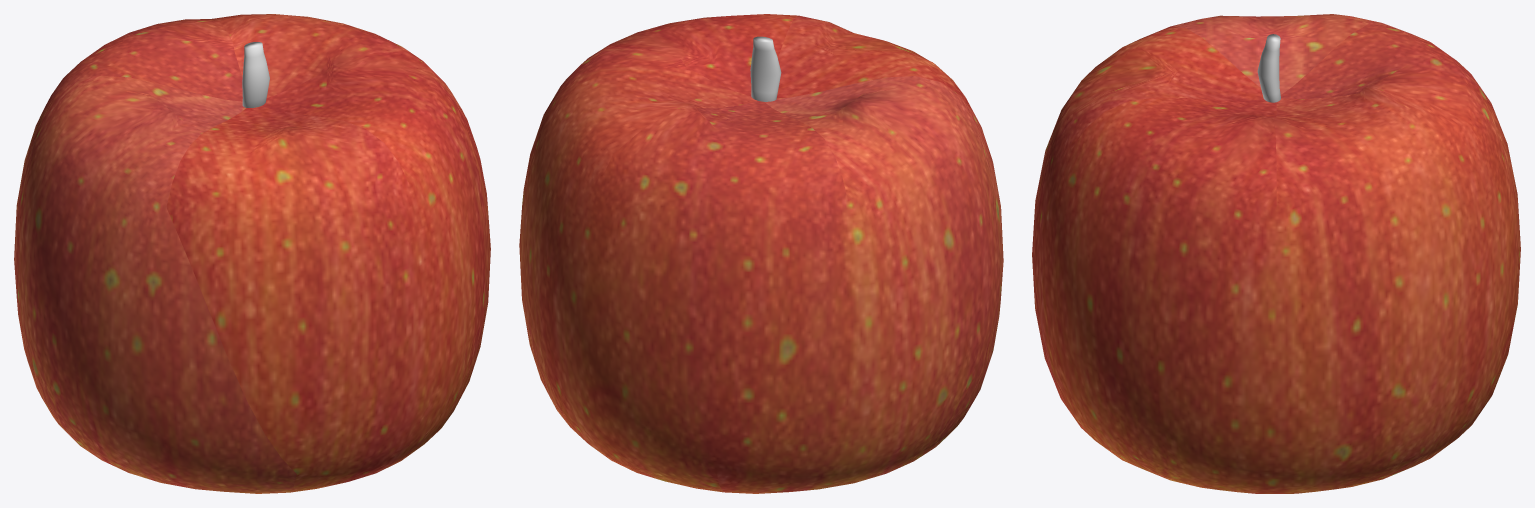
The model's file is Apple.fbx.
3 views of the same model, side by side, from view 1: azimuth 30°, elevation 25°; view 2: azimuth 150°, elevation 25°; view 3: azimuth 270°, elevation 25° (orthographic).
Visible parts, largest first — view 1: Icosphere, Cylinder; view 2: Icosphere, Cylinder; view 3: Icosphere, Cylinder.
Boxes of the visible parts, left/top/right/bottom form: Icosphere: left=14, top=14, right=490, bottom=493; Cylinder: left=242, top=42, right=269, bottom=107; Icosphere: left=519, top=14, right=1003, bottom=493; Cylinder: left=750, top=36, right=781, bottom=101; Icosphere: left=1032, top=14, right=1520, bottom=493; Cylinder: left=1257, top=34, right=1280, bottom=102.
Bounding box in the file's own units: 105 × 92.42 × 105.
2 materials, 1 textured.
